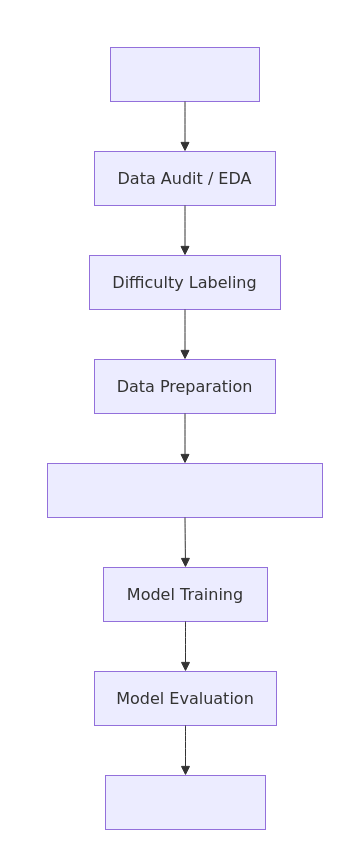
Some shapes in this 340 by 847 pixel diagram are drawn without their labels. The centre of each missing label's shape, as x and y in pixels:
Raw Dataset: point (185, 74)
Train / Validation / Test Splits: point (184, 490)
Trained Model: point (185, 802)
